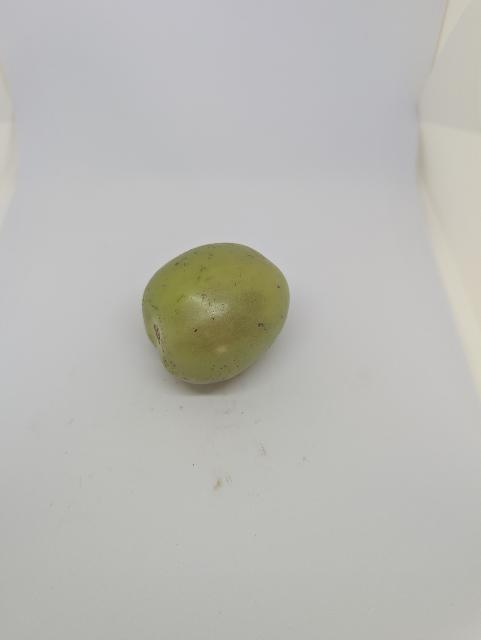green: (130, 238, 300, 392)
